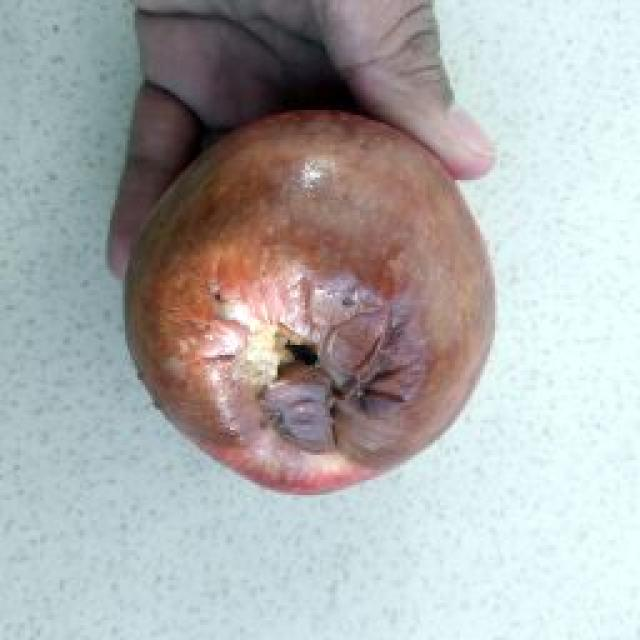Bad_Apple: (126, 111, 495, 493)
